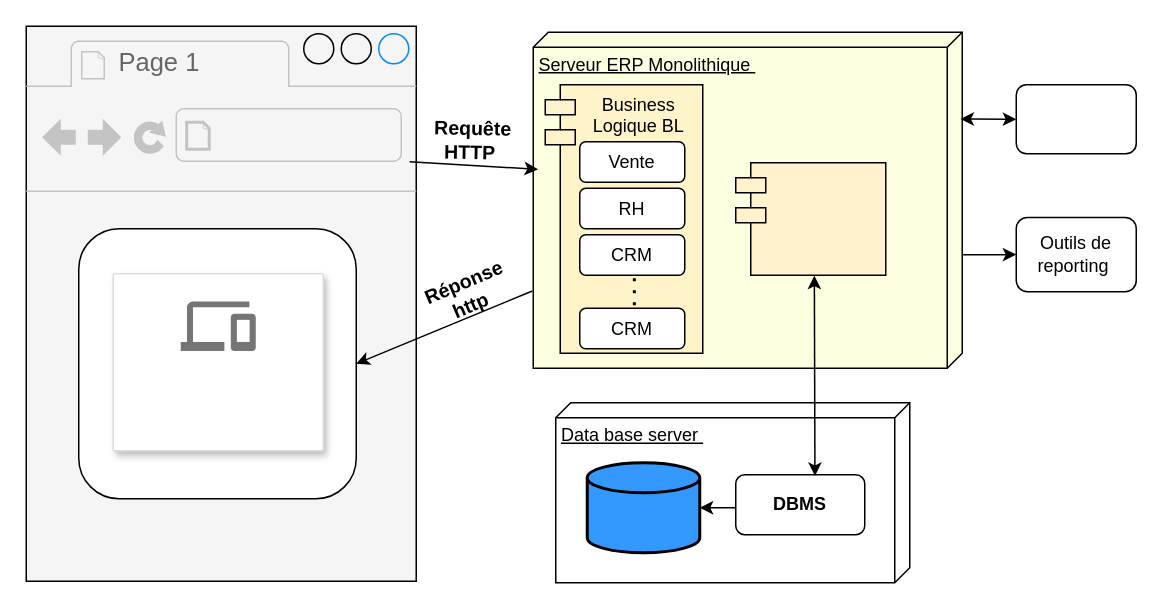
Image size: 1163x609. Some labels were removed from this diagram. The shapes that lost their labels are listed below. From the top down, each one's centre as x and y in pixels, then its label:
(x=333, y=135): http://localhost:8069/
(x=1075, y=118): Pack office
(x=810, y=218): Data Access Layer
(x=219, y=363): Desktop and Mobile
(x=642, y=507): DATA BASE
